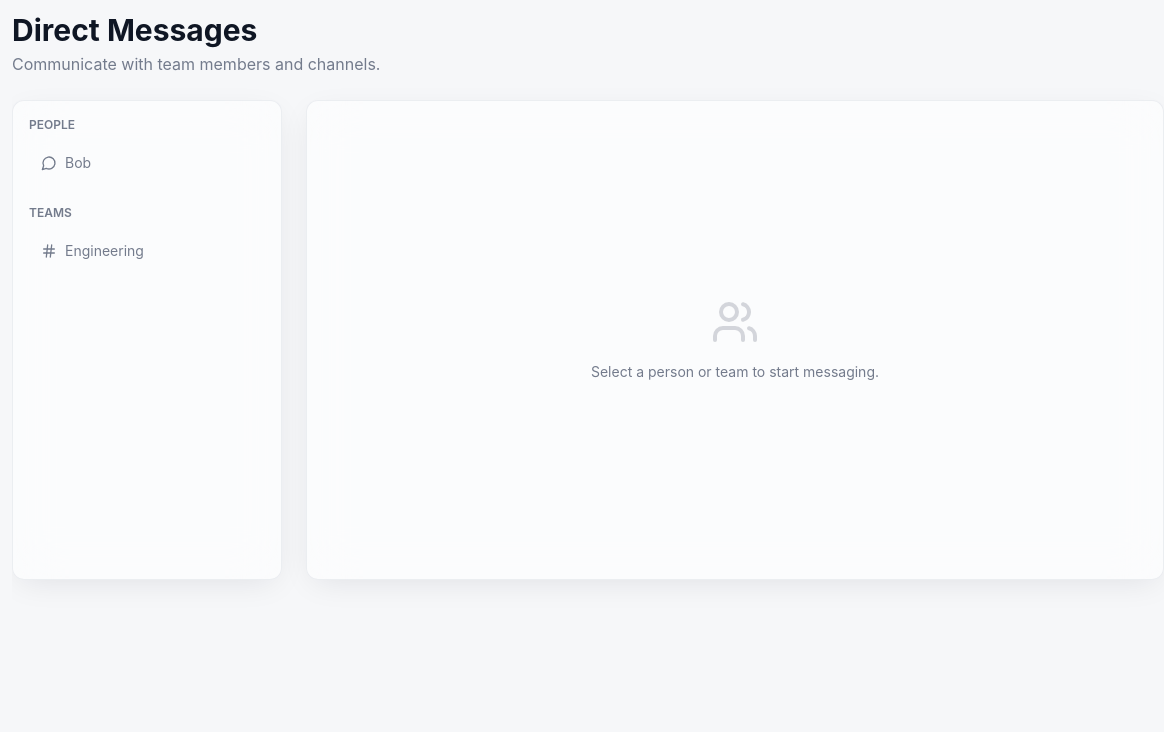
DirectMessagesView › renders message input when channel is selected
The image size is (1164, 732).
What coordinates should you click on to do the following:
click the button "Bob"
I would click on:
 (147, 163)
Its box is [29,145,265,181].
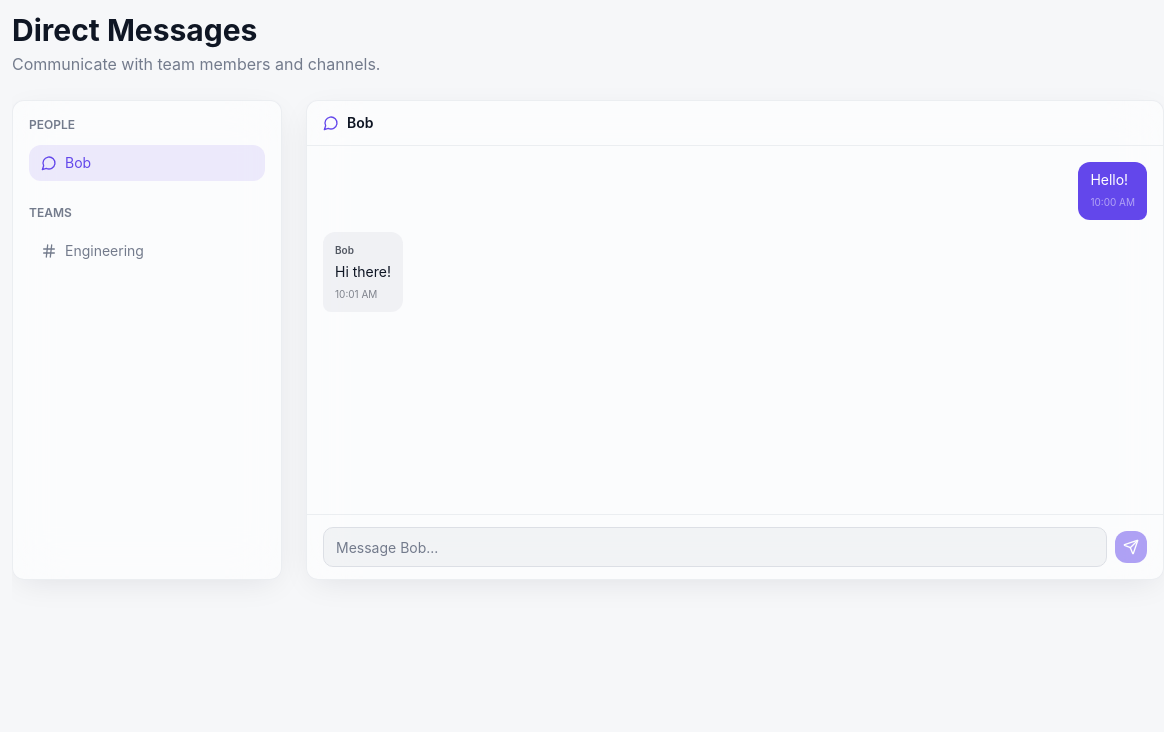
Expected: the field with placeholder "Message Bob..." is shown, [323,527,1107,567]
